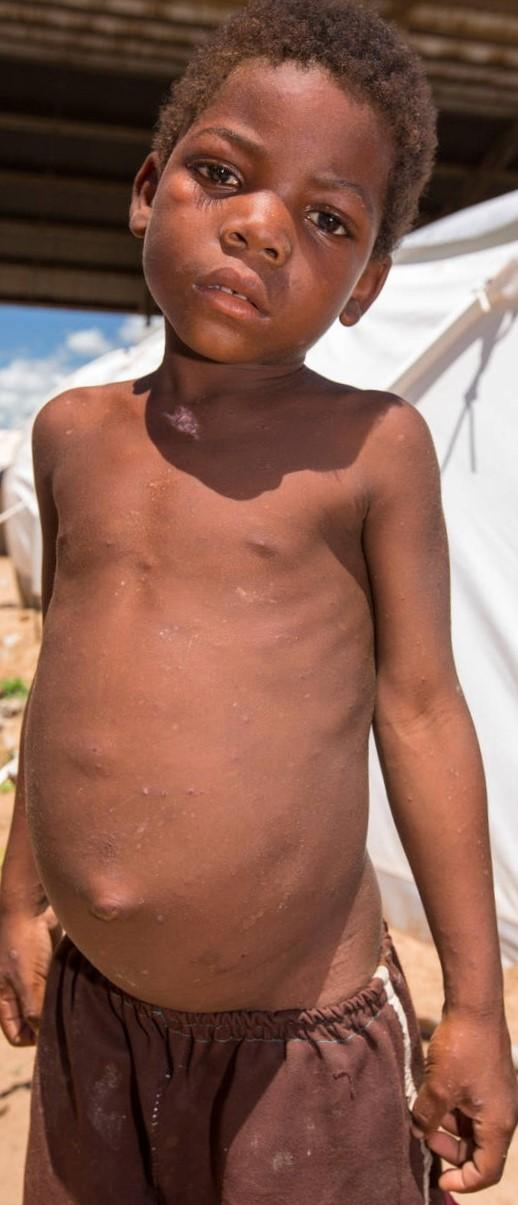MalNutrisi: (87, 0, 467, 427)
